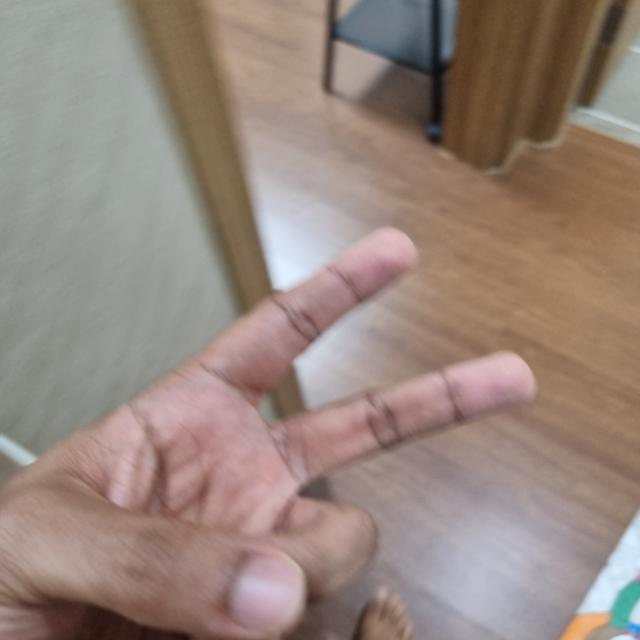Scissors: (0, 233, 533, 638)
